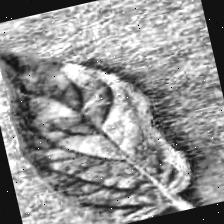leaf mold: (0, 13, 194, 224)
